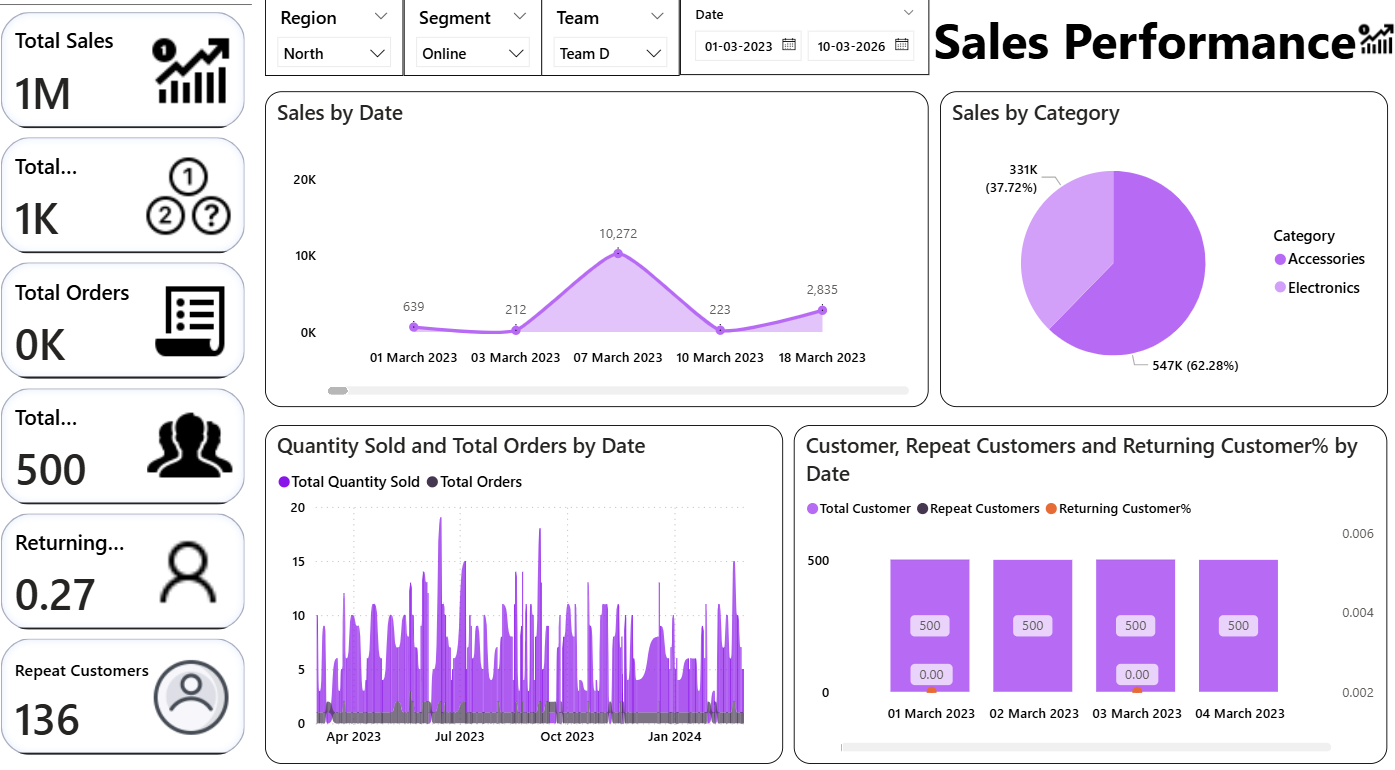

The dashboard page shown, as its layout file describes it:
{"tool":"powerbi","page":{"name":"Summary","canvas":[1280,720],"ordinal":0},"visuals":[{"type":"cardVisual","fields":{"Data":["_All Measures.Total Sales","_All Measures.Total Quantity Sold","_All Measures.Total Orders","_All Measures.Total Customer","_All Measures.Returning Customer%","_All Measures.Repeat Customers"]},"box":[12.3,12.3,232.8,690.1],"z":0},{"type":"areaChart","title":"Sales by Date","fields":{"Category":["Calender.Date"],"Y":["_All Measures.Total Sales"]},"box":[257.4,95.8,598.4,284.8],"z":1000},{"type":"slicer","fields":{"Values":["Calender.Date"]},"box":[631.2,12.3,224.6,68.5],"z":2000},{"type":"lineStackedColumnComboChart","title":"Customer, Repeat Customers and Returning Customer% by Date","fields":{"Category":["Calender.Date"],"Y":["_All Measures.Total Customer","_All Measures.Repeat Customers"],"Y2":["_All Measures.Returning Customer%"]},"box":[733.9,397.1,535.4,305.3],"z":3000},{"type":"ribbonChart","title":" Quantity Sold and Total Orders by Date","fields":{"Category":["Calender.Date"],"Y":["_All Measures.Total Quantity Sold","_All Measures.Total Orders"]},"box":[257.4,397.1,466.9,305.3],"z":4000},{"type":"slicer","fields":{"Values":["SalesData.Region"]},"box":[257.4,12.3,124.6,69.8],"z":5000},{"type":"slicer","fields":{"Values":["SalesData.Segment"]},"box":[382,12.3,124.6,69.8],"z":6000},{"type":"slicer","fields":{"Values":["SalesData.Team"]},"box":[506.6,12.3,124.6,69.8],"z":7000},{"type":"actionButton","box":[855.8,13.7,424.5,69.8],"z":8000},{"type":"pieChart","title":"Sales by Category","fields":{"Category":["SalesData.Category"],"Y":["_All Measures.Total Sales"]},"box":[865.4,95.8,403.9,284.8],"z":9000}]}

Visuals, with their boxes in screenshot pixels (x1, y1, x2, y2), scaled from the page's 1280x720 canvas onto the 1395x770 screenshot:
cardVisual - _All Measures.Total Sales x _All Measures.Total Quantity Sold: box=[13, 13, 267, 751]
"Sales by Date" areaChart: box=[281, 102, 933, 407]
slicer - Calender.Date: box=[688, 13, 933, 86]
"Customer, Repeat Customers and Returning Customer% by Date" lineStackedColumnComboChart: box=[800, 425, 1383, 751]
" Quantity Sold and Total Orders by Date" ribbonChart: box=[281, 425, 789, 751]
slicer - SalesData.Region: box=[281, 13, 416, 88]
slicer - SalesData.Segment: box=[416, 13, 552, 88]
slicer - SalesData.Team: box=[552, 13, 688, 88]
actionButton: box=[933, 15, 1394, 89]
"Sales by Category" pieChart: box=[943, 102, 1383, 407]
